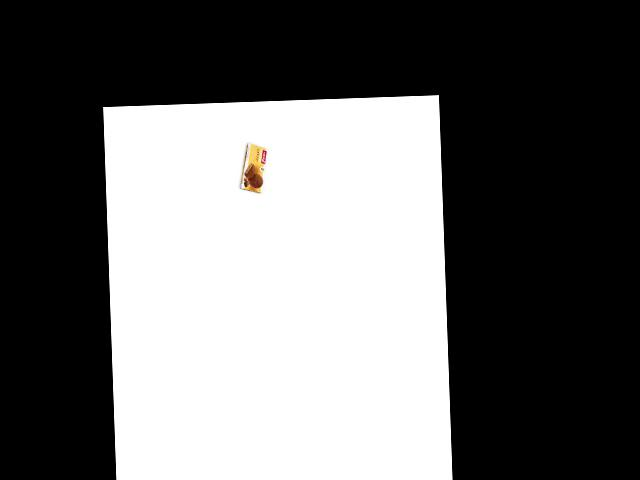chocolate: (242, 134, 269, 197)
